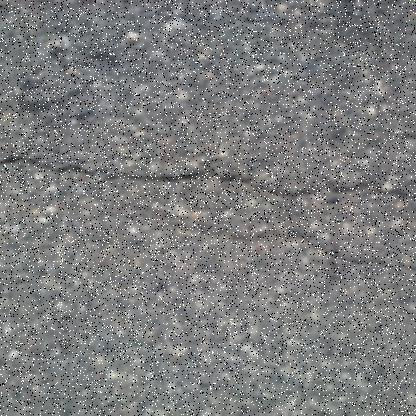Cracks: (0, 152, 416, 203)
